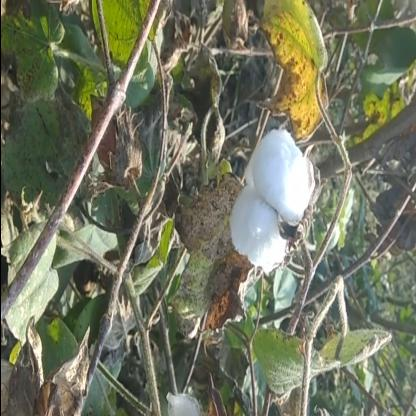cotton_ready: (220, 123, 314, 285)
